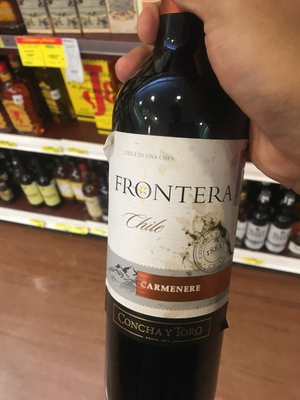frontera carmenere: (105, 15, 249, 400)
